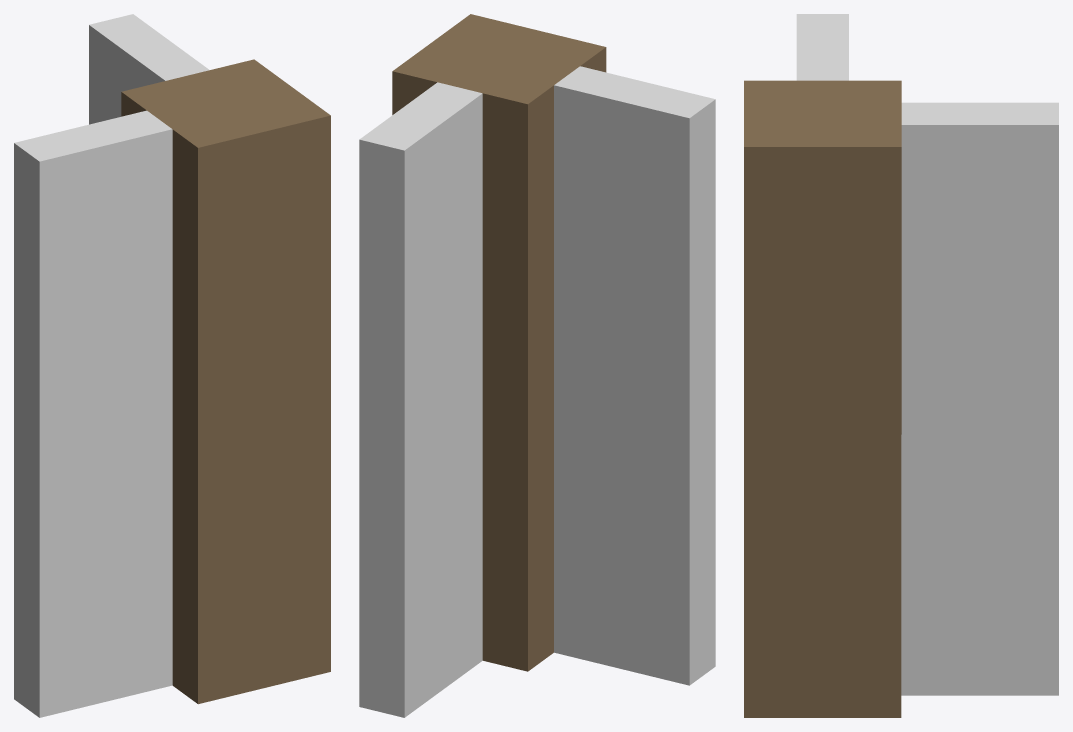
File: WallCornerPillar.fbx
3 renders of one model, left to right at view 1: azimuth 30°, elevation 25°; view 2: azimuth 150°, elevation 25°; view 3: azimuth 270°, elevation 25°, orthographic. The views are drawn at different scales.
Visible parts, largest first — view 1: WallCornerPillar; view 2: WallCornerPillar; view 3: WallCornerPillar.
Part boxes in pixels (<box>): WallCornerPillar: <box>14,14,330,717</box>; WallCornerPillar: <box>359,14,715,717</box>; WallCornerPillar: <box>744,14,1058,717</box>.
Bounding box in the file's own units: 200 × 400 × 200.
